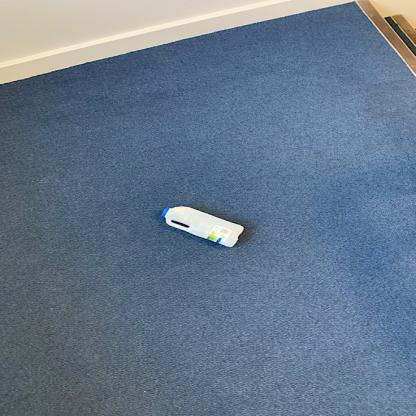trash: (157, 202, 247, 250)
